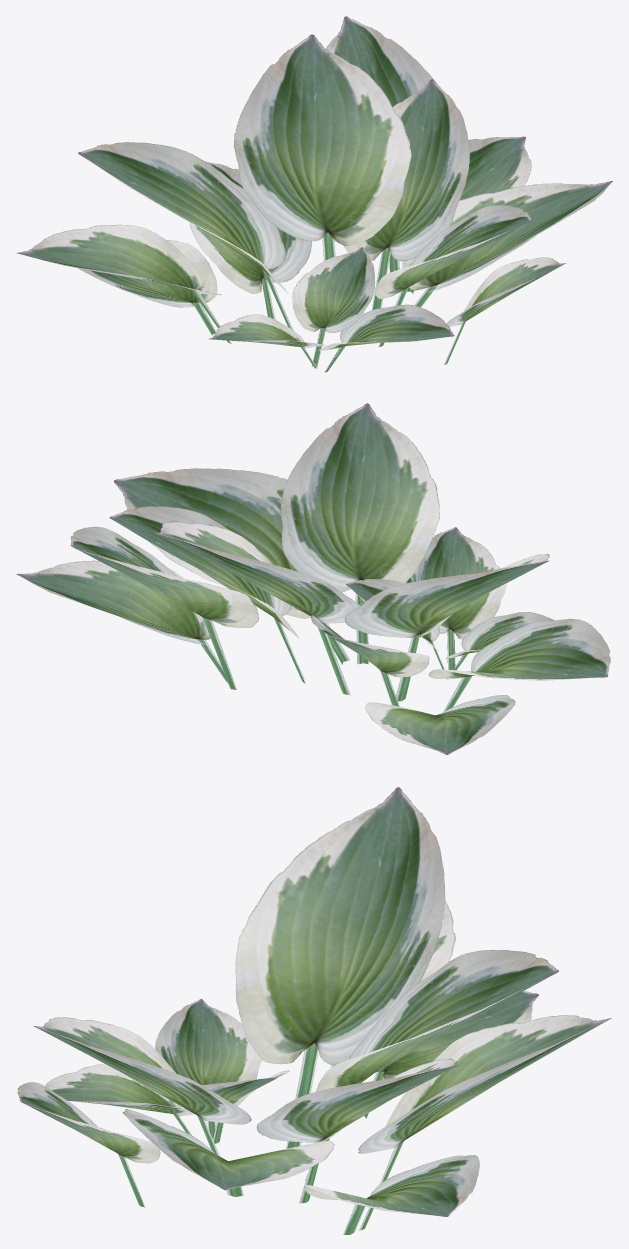
The model's file is plant_small_wg_04Y.fbx.
3 views of the same model, one above another, from view 1: azimuth 30°, elevation 25°; view 2: azimuth 150°, elevation 25°; view 3: azimuth 270°, elevation 25° (orthographic). The views are drawn at different scales.
Parts seen in each view (by area): view 1: plant_small_wg_04Y; view 2: plant_small_wg_04Y; view 3: plant_small_wg_04Y.
Part boxes in pixels (x1=…): plant_small_wg_04Y: x1=17, y1=16, x2=612, y2=372; plant_small_wg_04Y: x1=16, y1=403, x2=610, y2=754; plant_small_wg_04Y: x1=17, y1=787, x2=611, y2=1234.
Size of the model in its own units: 163 by 59.72 by 127.
